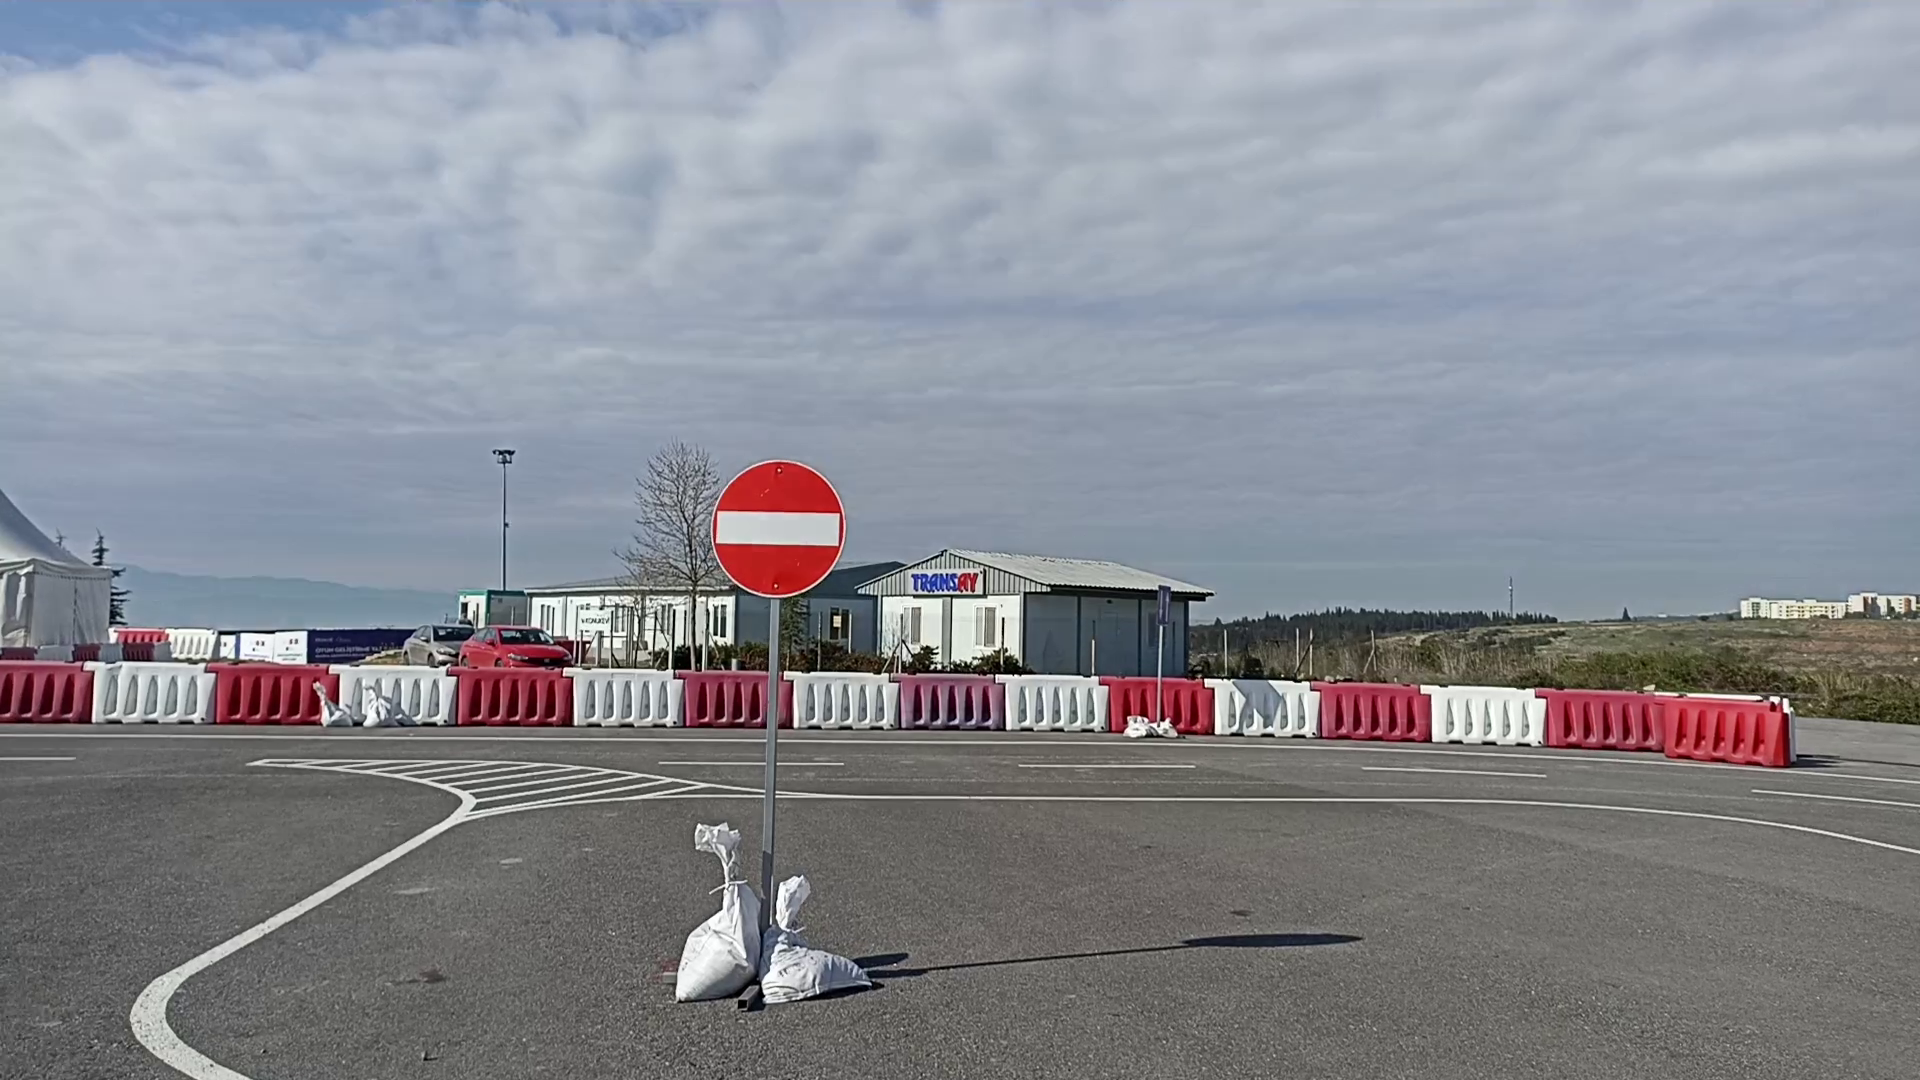noentryway: (708, 455, 848, 601)
